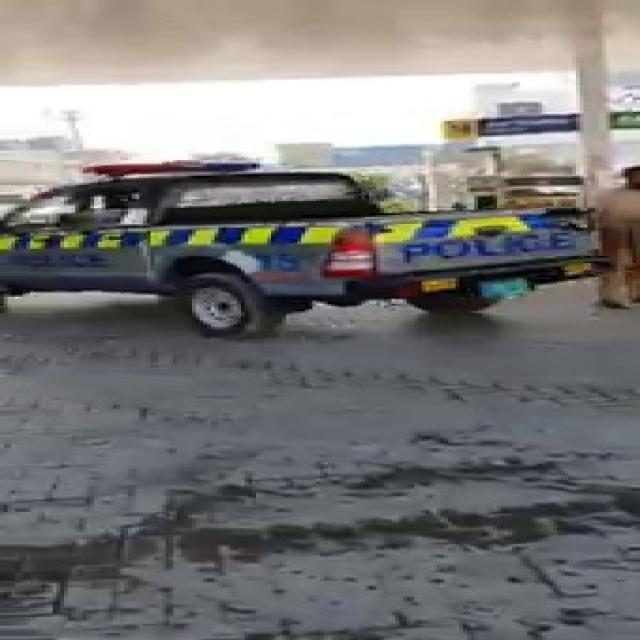police: (0, 180, 564, 335)
